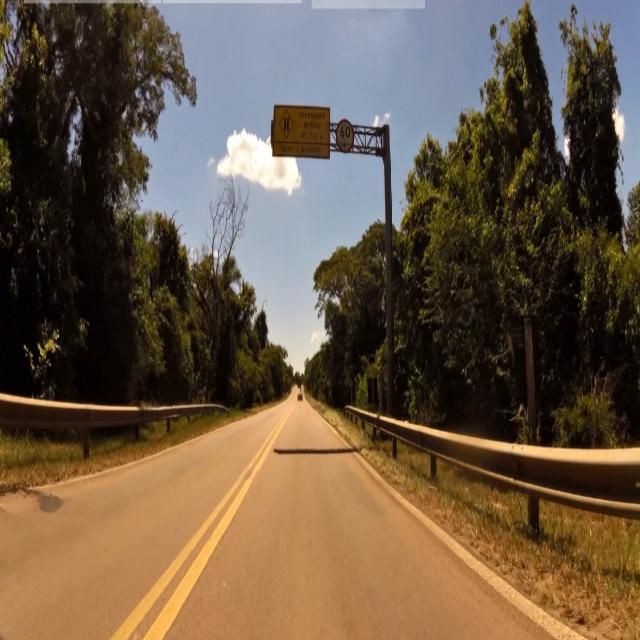A-22: (278, 112, 294, 136)
R-19: (338, 117, 354, 154)
